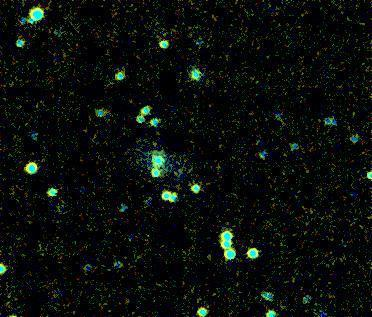star: (352, 201, 372, 231)
